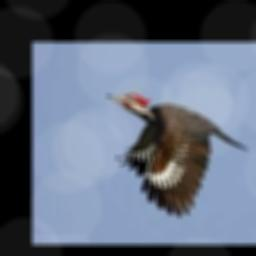Woodpecker: (107, 93, 249, 217)
